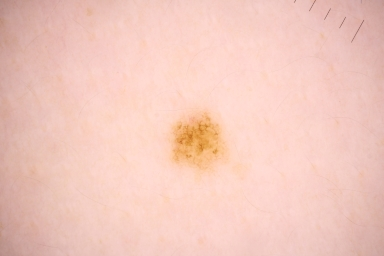nevus: (172, 112, 227, 179)
